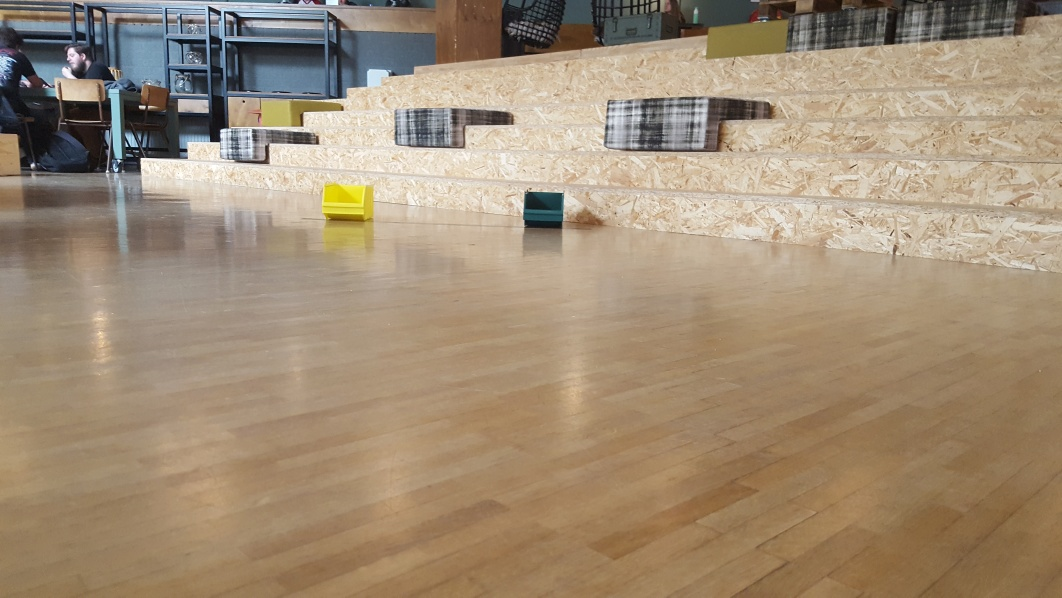tray: (322, 180, 377, 221), (520, 187, 567, 225)
